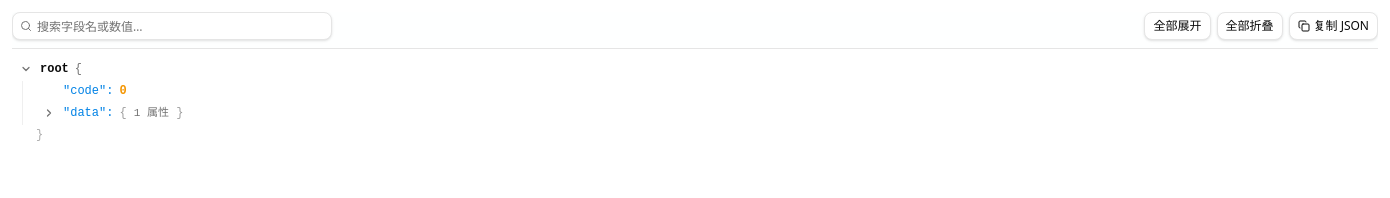
Test case: JsonTree › 支持全部展开、全部折叠和搜索高亮
Expected: the button "全部折叠" is shown, [1216,12,1282,40]
Expected: the text "复制 JSON" is shown, [1314,18,1369,34]
// 点击全部展开后，原本折叠的 data 下的 name 节点应该可见
Click the button "全部展开" at (1178, 26), box [1144,12,1210,40]
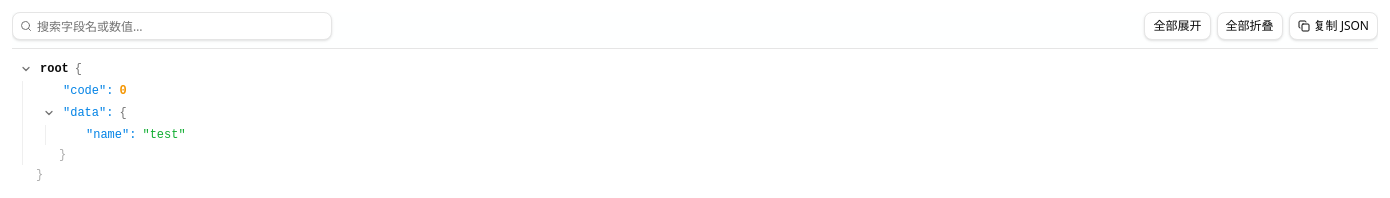
Expected: the button with aria-label "选择节点 /data/name" is shown, [86,127,1374,143]
Type "test" into the field with placeholder "搜索字段名或数值…" at (172, 26), box [12,12,332,40]
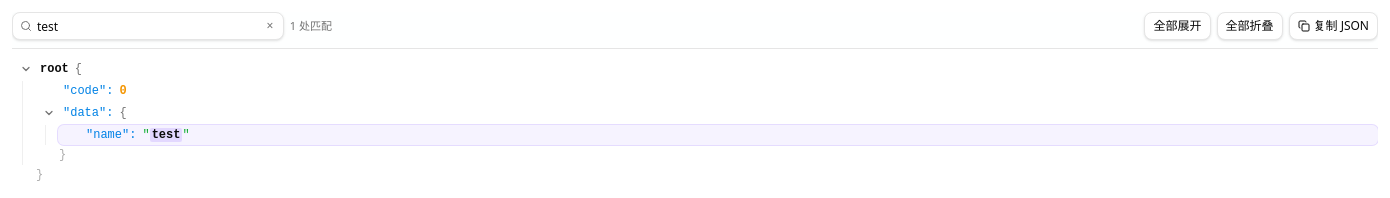
Expected: the text "1 处匹配" is shown, [290,18,332,34]
